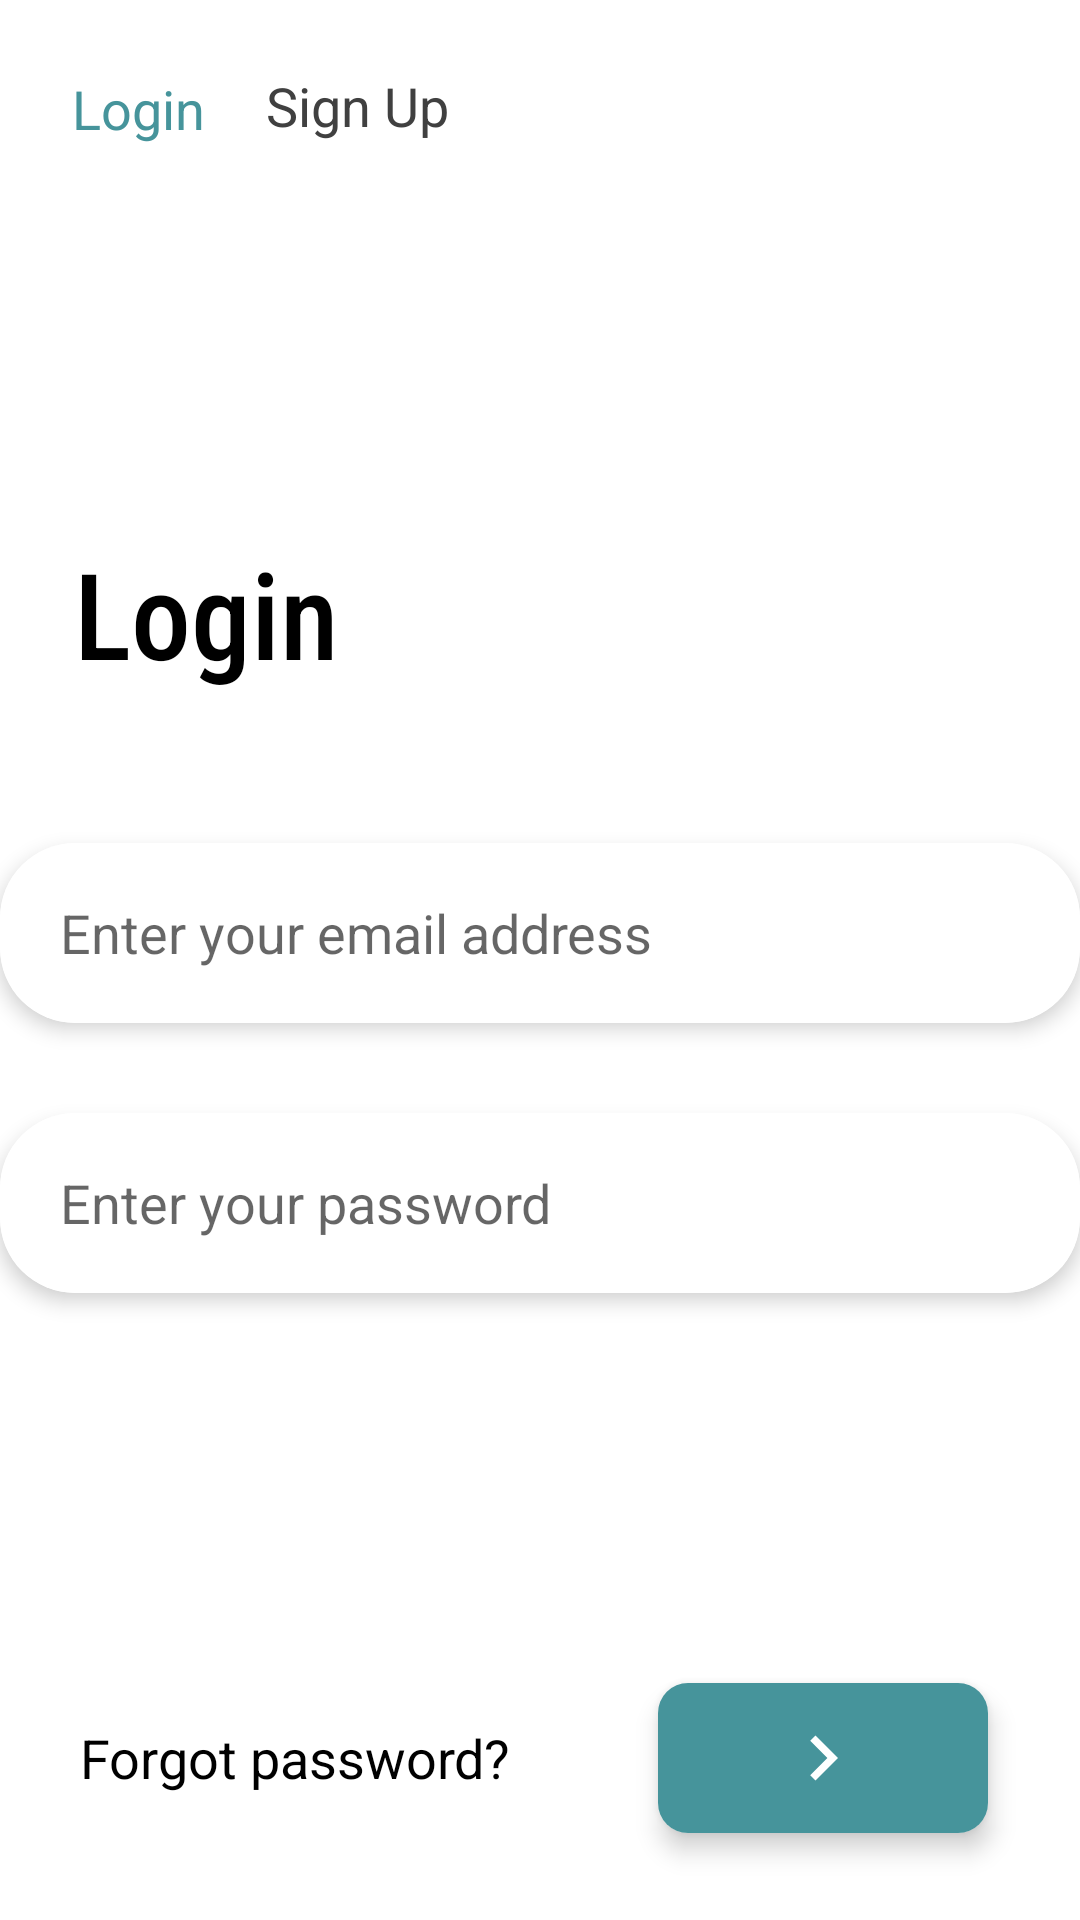

Icon bounding boxes for this 1080px×1920px phone screenshot, format box=[x1, y1, x2, y2]:
next: box=[658, 1683, 988, 1833]
